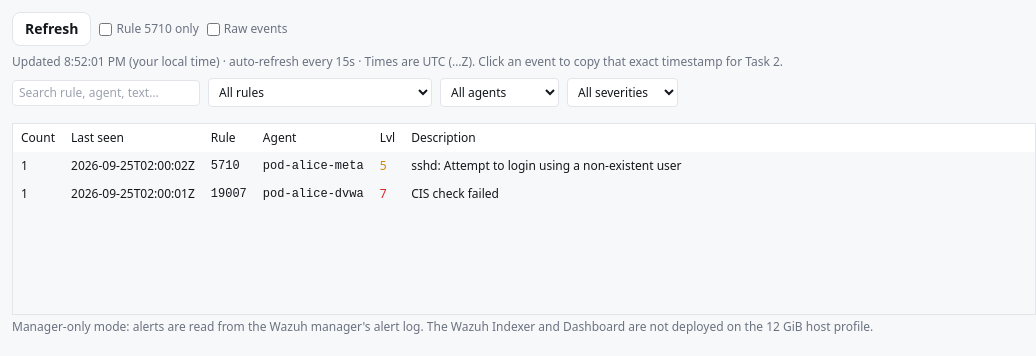
it: SiemAlertViewer (SIEM-POLL) › filters by rule ID and keeps the 5710 shortcut server-side
Select "19007 — CIS check failed" in the dropdown named "Filter by rule" at (320,92), box [208,78,432,107]
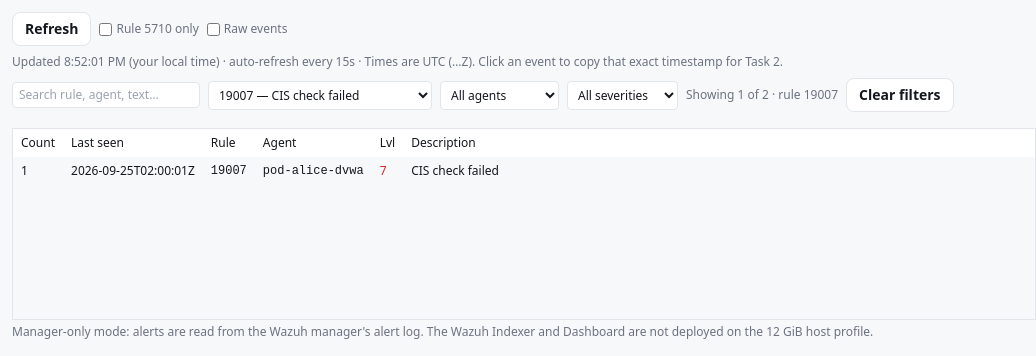
Check: the text with test id "siem-filter-summary" reads "Showing 1 of 2 · rule 19007", box [686,87,838,103]
Click the checkbox labelled "Rule 5710 only".
click(106, 29)  # box [100,22,112,36]
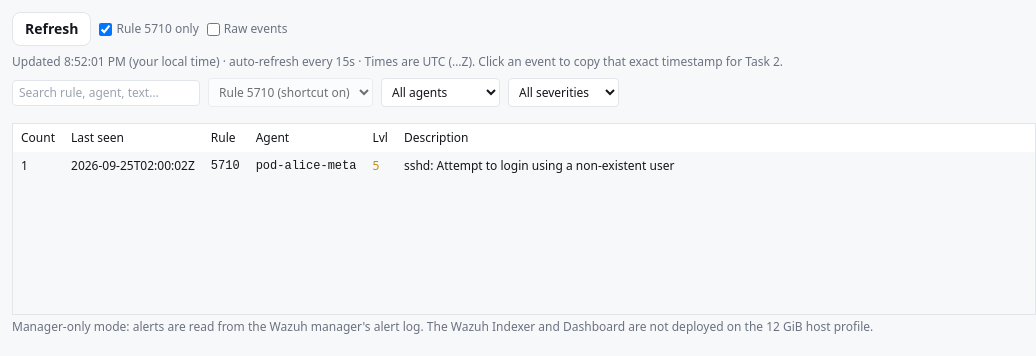
Check: the dropdown named "Filter by rule" is disabled, box [208,78,373,107]
Check: the text with test id "siem-filter-summary" is gone
Check: the text "5710" is shown, box [203,152,248,180]
